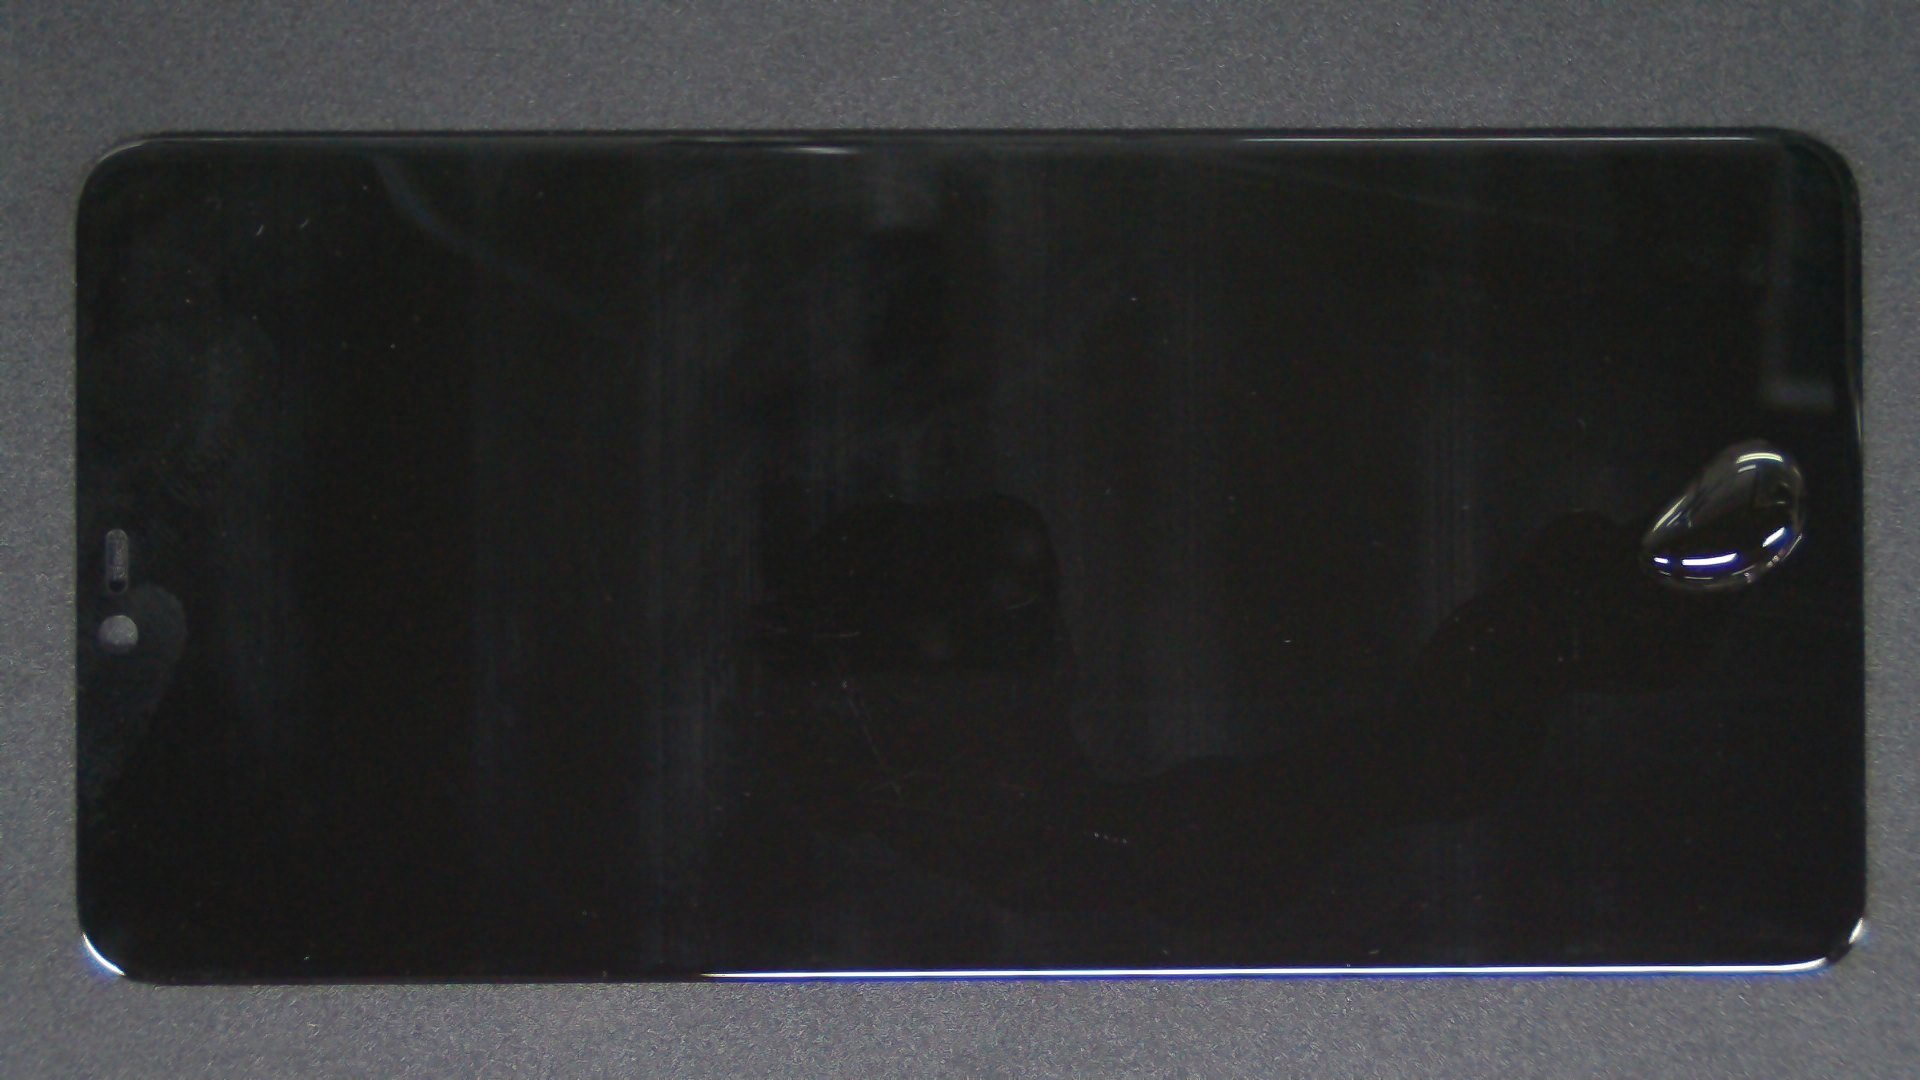oil: (878, 219, 1920, 661)
